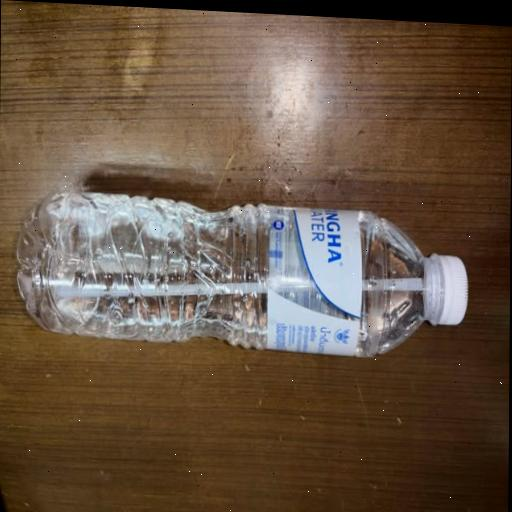ba: (4, 165, 480, 380)
